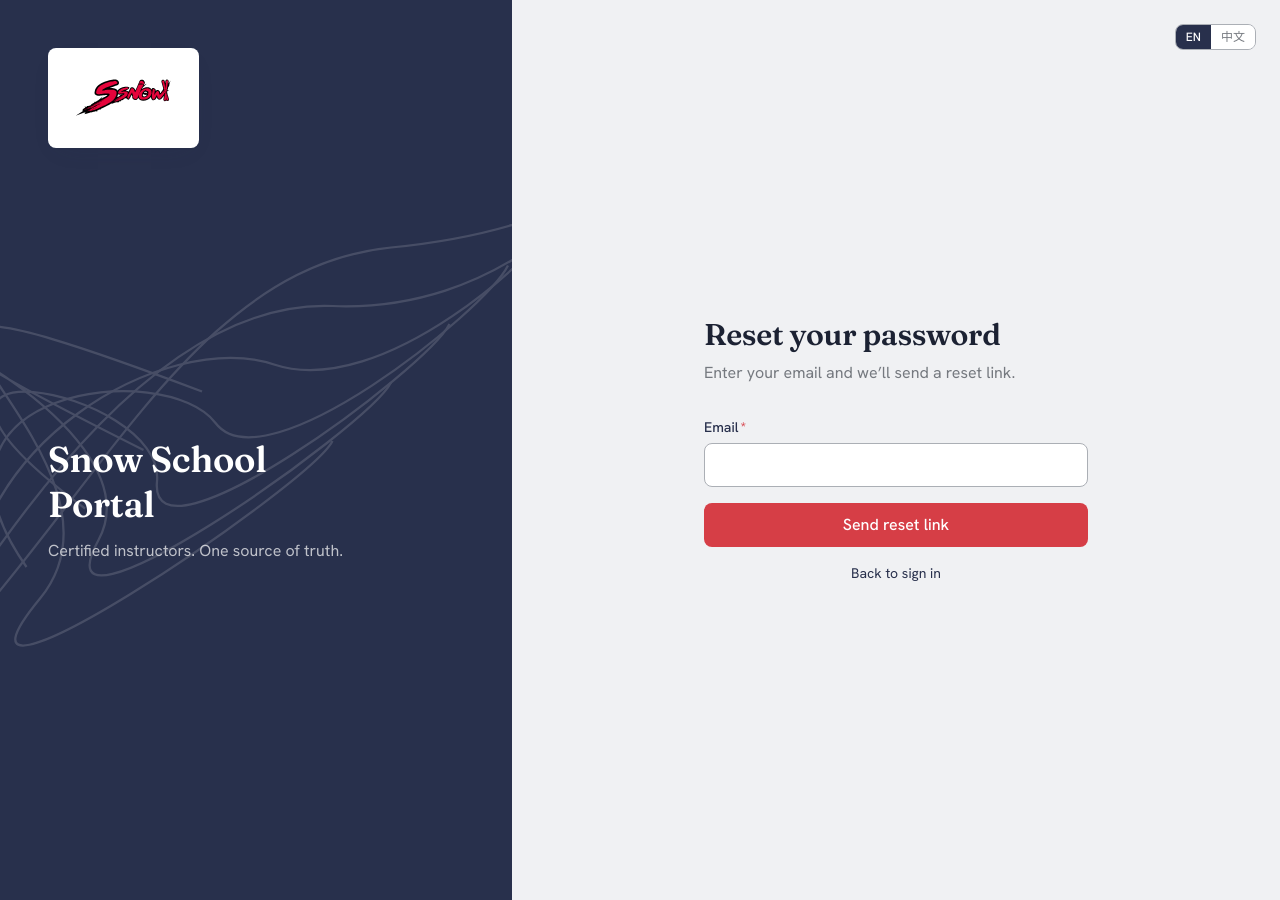
Scenario: RequestResetPage › counts down from the wait Supabase reports when it rate-limits
This screenshot has width=1280, height=900.
Type "jane@example.com" into the field labelled "Email*" at (896, 465), box [704, 443, 1088, 487]
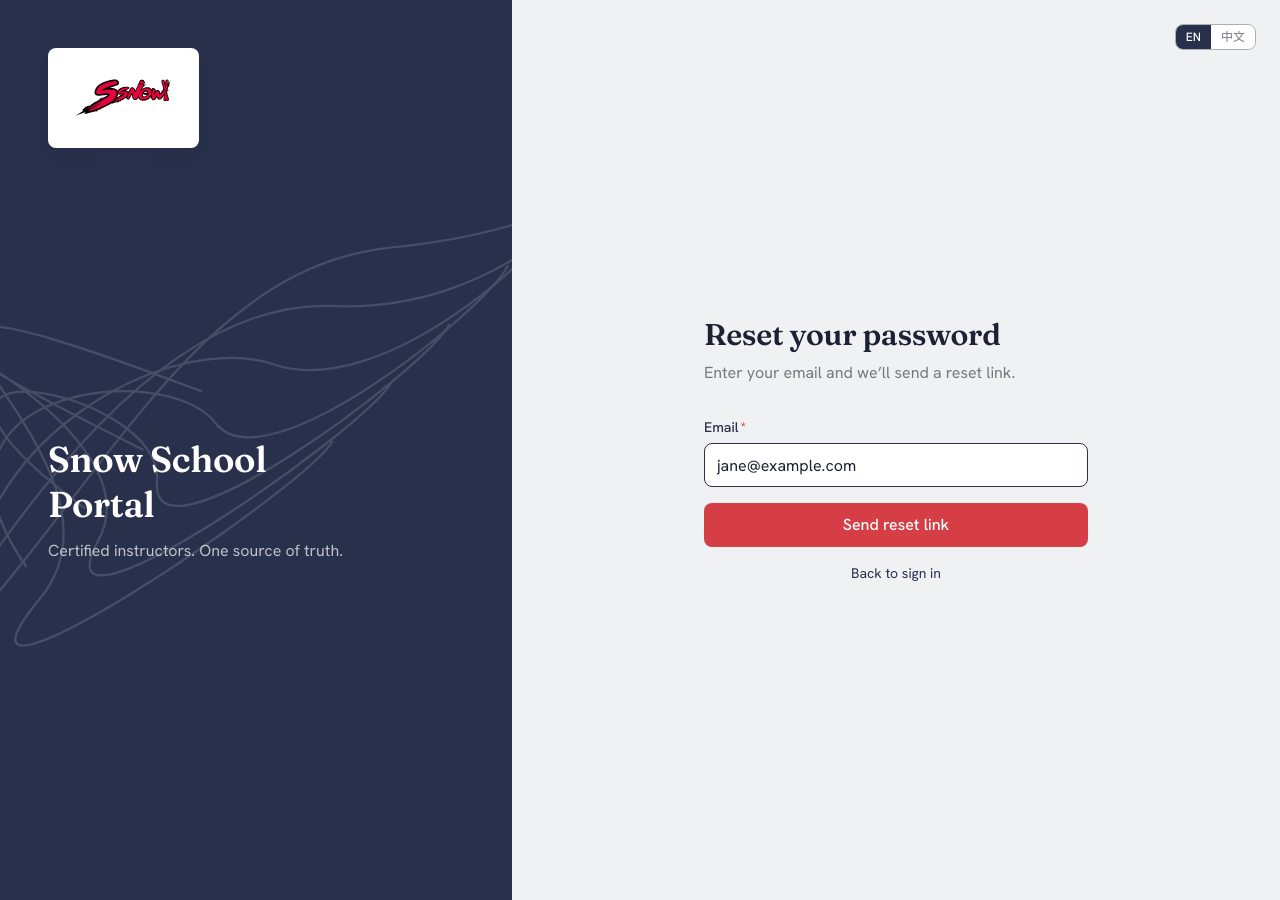
Click the button named "Send reset link" at (896, 525), box [704, 503, 1088, 547]
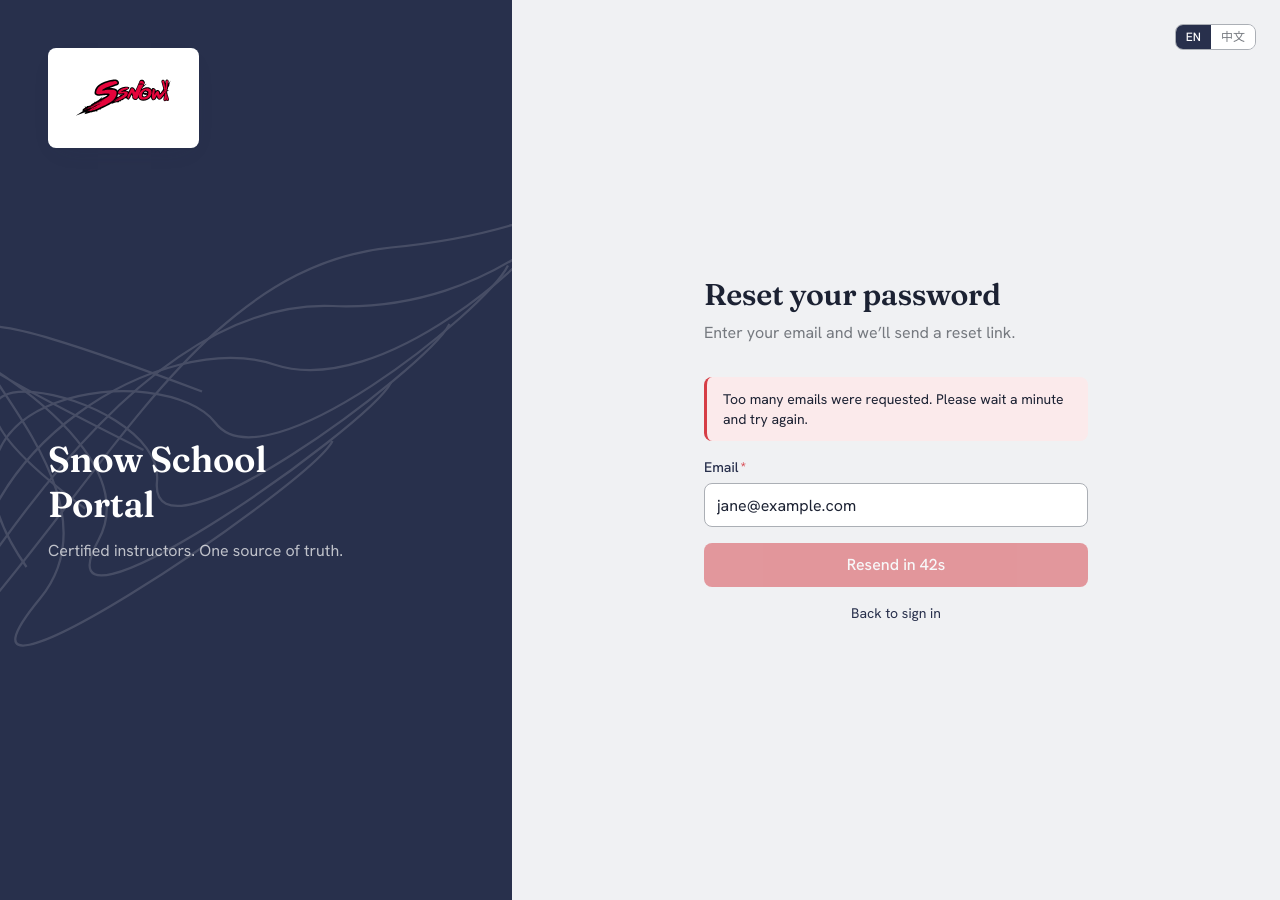
Expected: the text "Too many emails were requested. Please wait a minute and try again." is shown, [723, 389, 1072, 429]
Expected: the 3rd button is disabled, [704, 543, 1088, 587]
